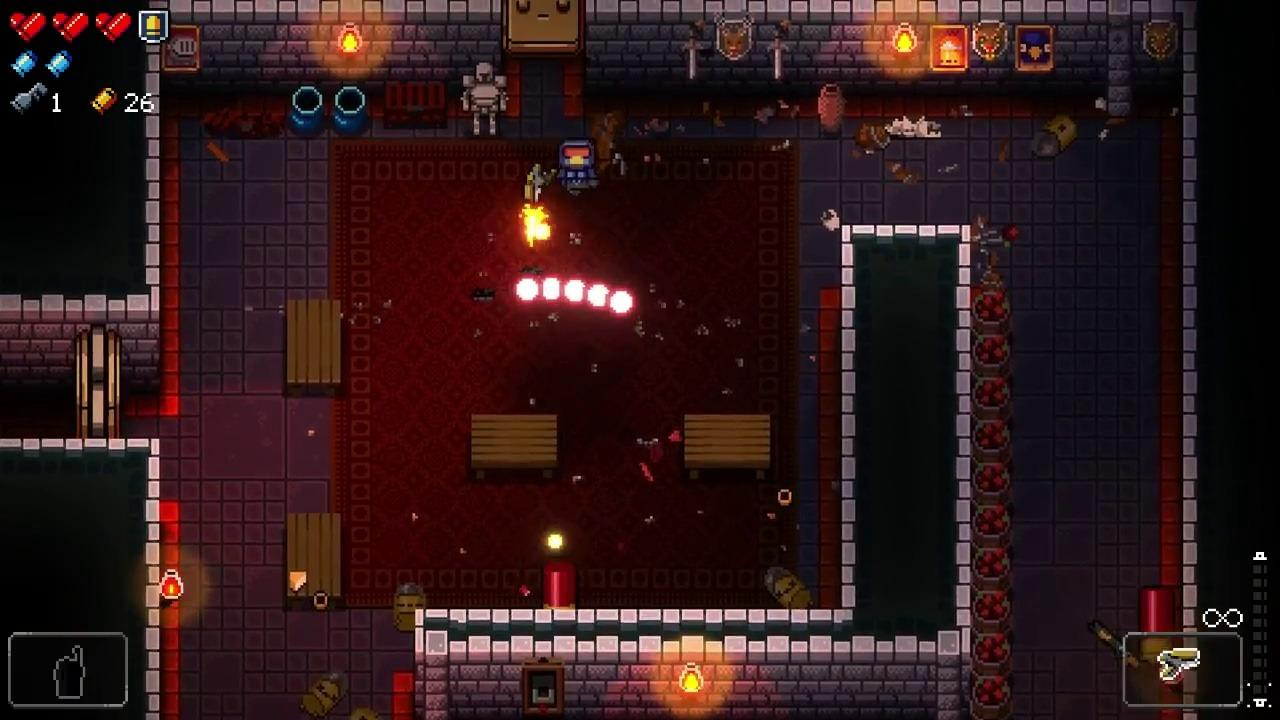bullet: (607, 286, 636, 317), (584, 281, 614, 309), (539, 273, 566, 304), (515, 275, 540, 303), (563, 276, 587, 303)
bullet_kin: (391, 580, 430, 632)
dead_bullet_kin: (298, 669, 350, 716), (763, 567, 814, 609), (1030, 114, 1080, 156)
locked_door: (76, 324, 121, 439), (503, 0, 585, 56)
player: (560, 139, 597, 192)
red_shotgun_kin: (1138, 585, 1177, 665), (542, 560, 576, 610)
table: (685, 413, 770, 481), (285, 512, 342, 610), (472, 415, 557, 480), (286, 300, 339, 394)
